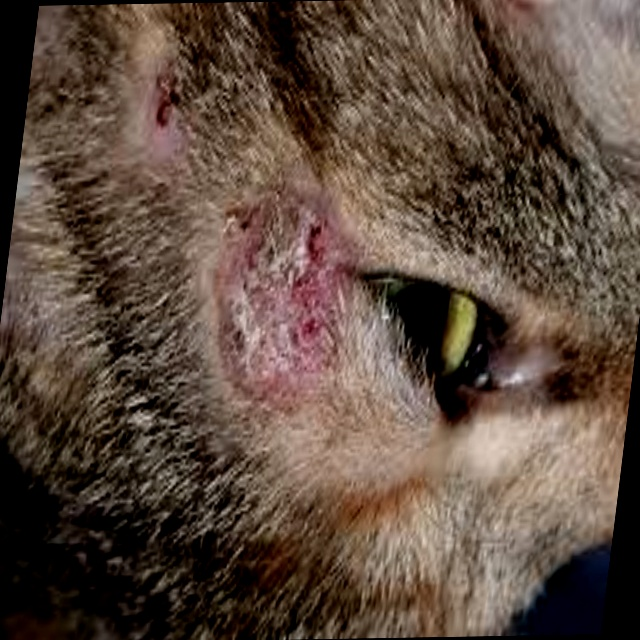ringworm: (193, 193, 380, 439), (136, 66, 190, 152)
